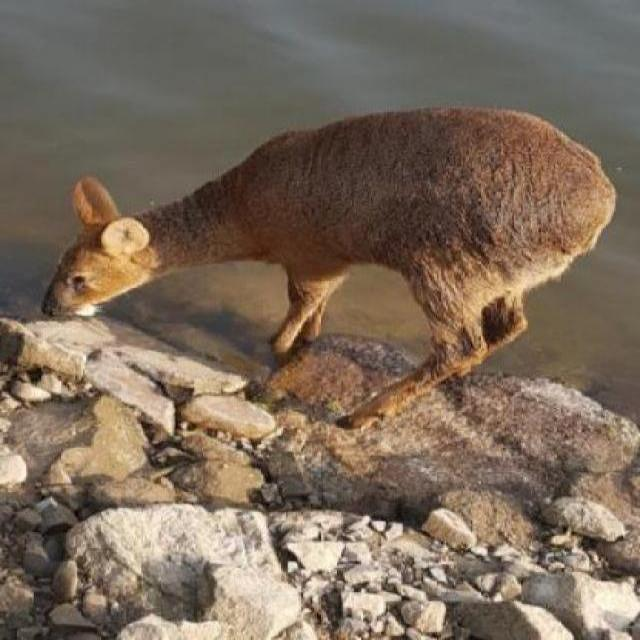deer: (31, 98, 602, 437)
